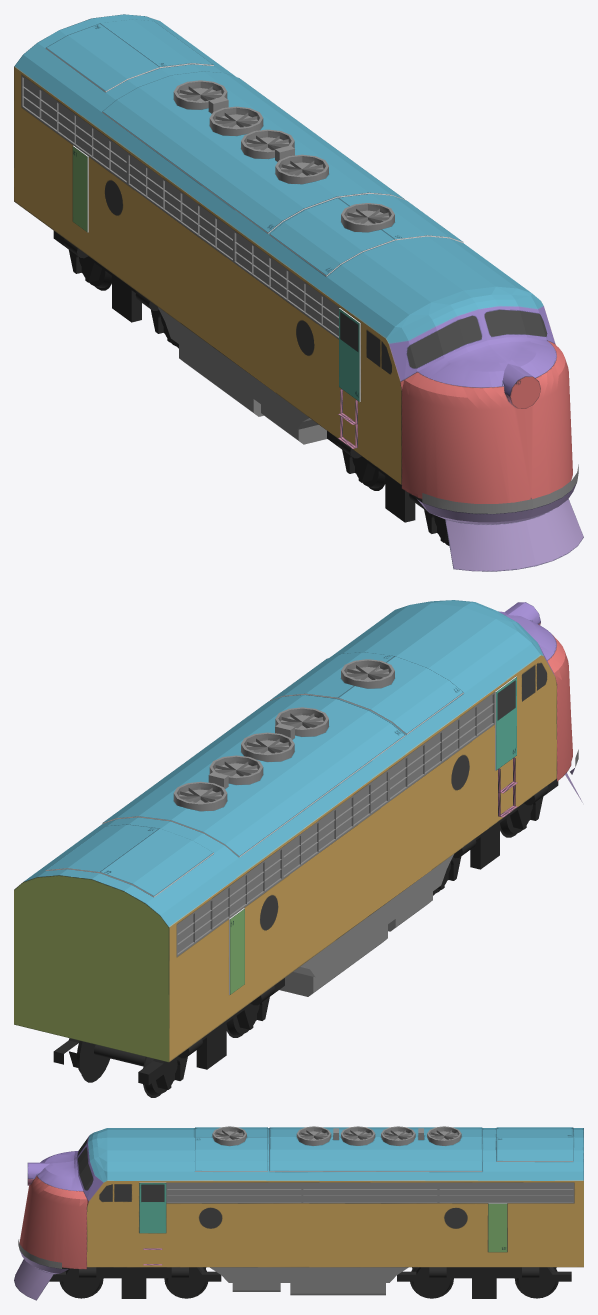
3 views of the same model, one above another, from view 1: azimuth 30°, elevation 25°; view 2: azimuth 150°, elevation 25°; view 3: azimuth 270°, elevation 25° (orthographic). The views are drawn at different scales.
Visible parts, largest first — view 1: instance_5, instance_1, instance_4, instance_2, instance_3, instance_9, instance_7, instance_6, instance_20, instance_17, instance_10, instance_8 (+2 smaller); view 2: instance_5, instance_1, instance_2, instance_4, instance_3, instance_17, instance_6, instance_10, instance_8, instance_18, instance_19, instance_15 (+3 smaller); view 3: instance_1, instance_5, instance_2, instance_3, instance_4, instance_19, instance_18, instance_20, instance_17, instance_15 (×2), instance_14 (×2), instance_7 (+4 smaller).
Part boxes in pixels (x1,y1,x2,y2): instance_5: [14, 18, 535, 571]; instance_1: [92, 14, 583, 565]; instance_4: [21, 75, 127, 184]; instance_2: [127, 153, 233, 262]; instance_3: [233, 230, 339, 339]; instance_9: [209, 106, 263, 135]; instance_7: [275, 154, 328, 184]; instance_6: [341, 203, 394, 232]; instance_20: [327, 431, 395, 515]; instance_17: [53, 231, 121, 314]; instance_10: [173, 80, 227, 109]; instance_8: [241, 129, 294, 158]; instance_5: [91, 602, 582, 1062]; instance_1: [14, 600, 525, 1043]; instance_2: [282, 769, 388, 879]; instance_4: [176, 847, 282, 956]; instance_3: [389, 692, 494, 801]; instance_17: [138, 1028, 216, 1089]; instance_6: [341, 659, 394, 688]; instance_10: [173, 781, 227, 811]; instance_8: [241, 732, 294, 761]; instance_18: [217, 978, 284, 1062]; instance_19: [490, 779, 558, 861]; instance_15: [76, 1041, 126, 1082]; instance_1: [14, 1130, 583, 1300]; instance_5: [14, 1127, 583, 1279]; instance_2: [302, 1182, 438, 1203]; instance_3: [166, 1182, 302, 1203]; instance_4: [438, 1182, 574, 1203]; instance_19: [484, 1267, 571, 1298]; instance_18: [134, 1267, 221, 1298]; instance_20: [397, 1267, 484, 1298]; instance_17: [49, 1267, 133, 1298]; instance_15 (×2): [410, 1267, 558, 1298]; instance_14 (×2): [59, 1267, 207, 1298]; instance_7: [296, 1126, 331, 1145].
Bounding box in the file's own units: 3.2 × 4.55 × 14.87.
32 materials, 28 textured.
